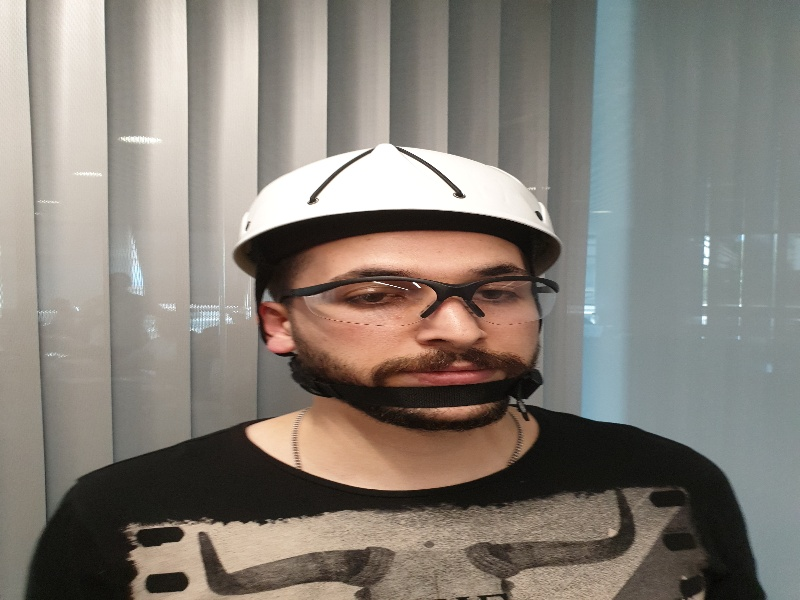Baret: (238, 142, 560, 246)
Gozluk: (285, 273, 559, 329)
